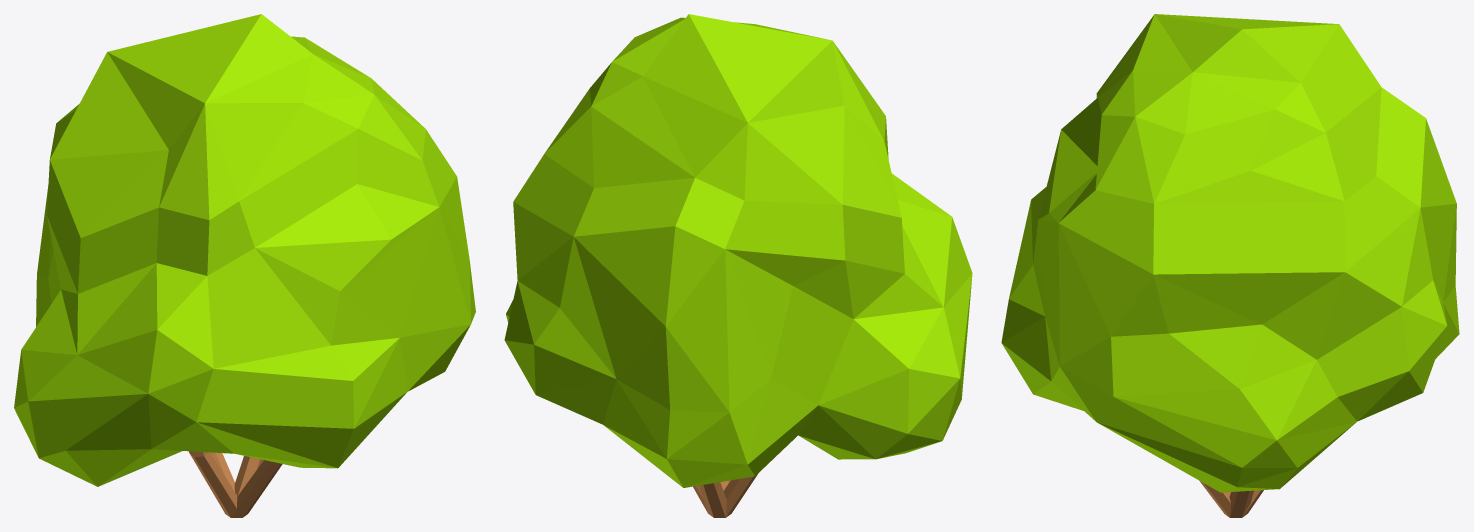
Rendered from Tree_6.fbx.
3 renders of one model, left to right at view 1: azimuth 30°, elevation 25°; view 2: azimuth 150°, elevation 25°; view 3: azimuth 270°, elevation 25°, orthographic.
Parts seen in each view (by area): view 1: tree_6; view 2: tree_6; view 3: tree_6.
Part boxes in pixels (<box>): tree_6: <box>14,14,475,517</box>; tree_6: <box>504,14,972,517</box>; tree_6: <box>1001,14,1459,517</box>.
Bounding box in the file's own units: 247 × 279 × 232.
